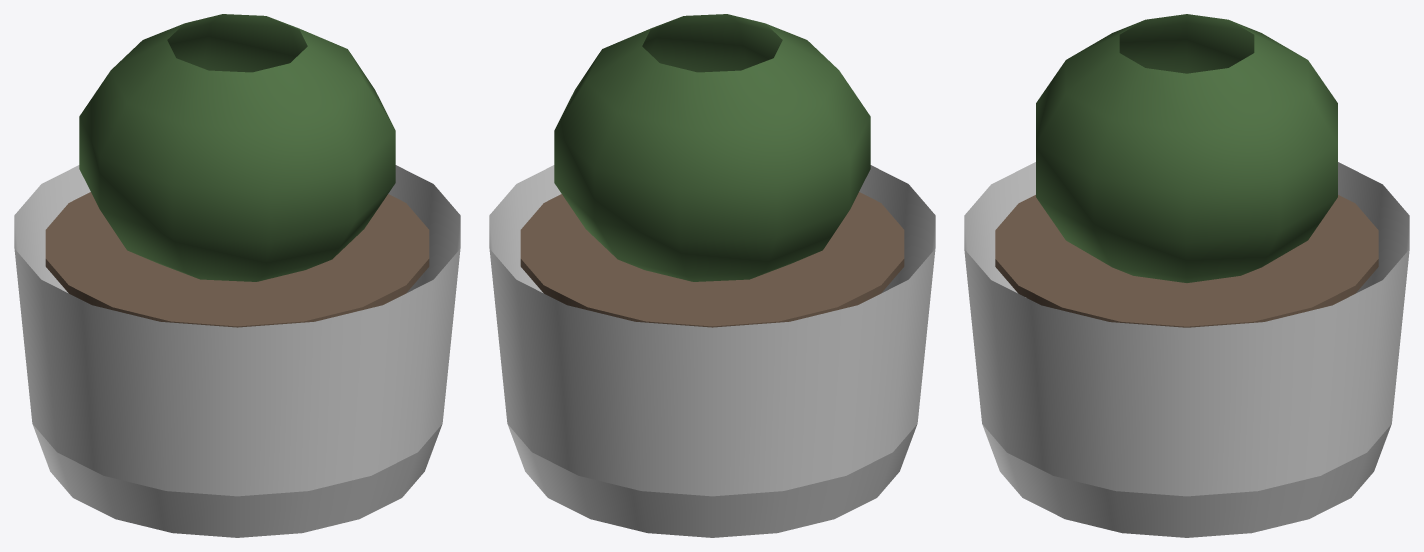
File: planter.glb
3 renders of one model, left to right at view 1: azimuth 30°, elevation 25°; view 2: azimuth 150°, elevation 25°; view 3: azimuth 270°, elevation 25°, orthographic.
Visible parts, largest first — view 1: planter; view 2: planter; view 3: planter.
Boxes of the visible parts, left/top/right/bottom form: planter: left=14, top=14, right=460, bottom=537; planter: left=489, top=14, right=935, bottom=537; planter: left=964, top=14, right=1409, bottom=537.
Size of the model in its own units: 1 by 1.01 by 0.9848.
